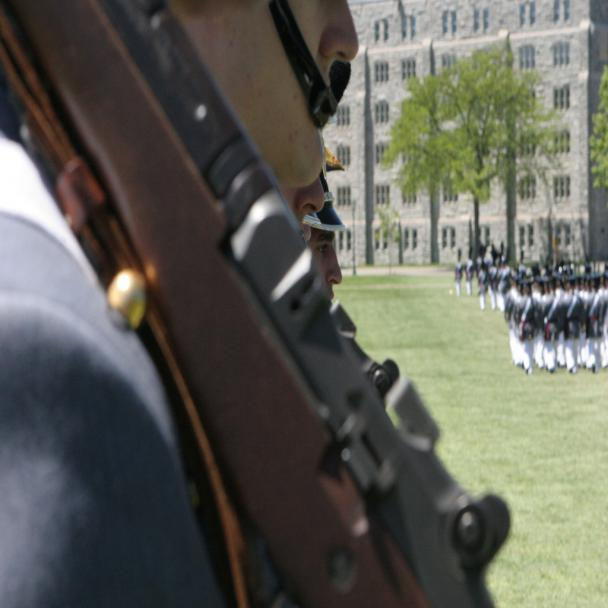Gun: (5, 0, 506, 607)
